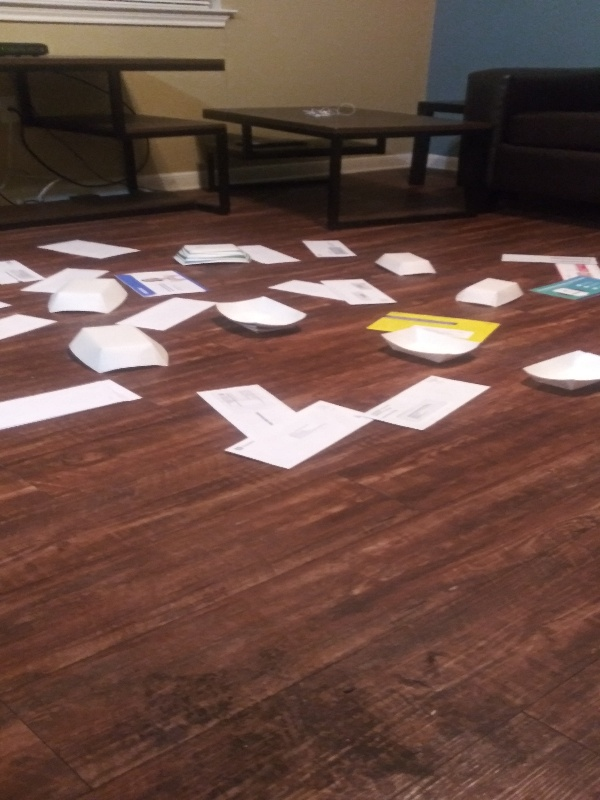plate: (66, 318, 176, 377), (208, 292, 310, 339), (514, 347, 600, 400), (377, 325, 485, 365), (43, 275, 132, 318), (448, 276, 527, 309), (165, 240, 252, 269), (373, 247, 438, 282)
